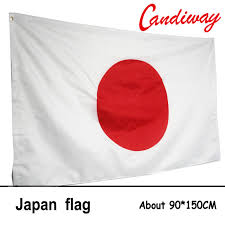Japanese Flag: (7, 11, 222, 187)
